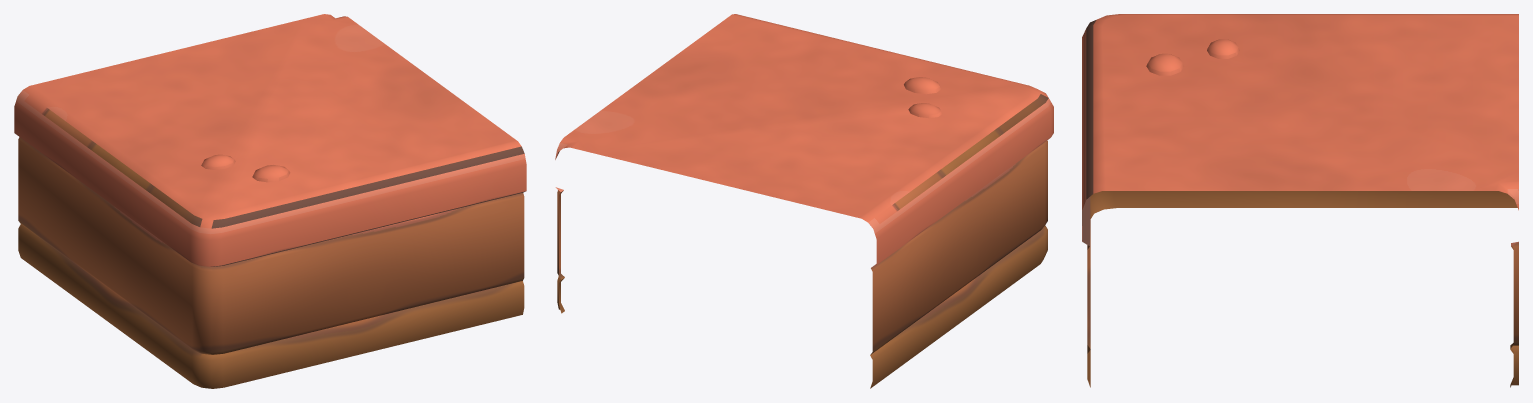
Rendered from wall_corner_low.glb.
The picture shows the model from 3 angles, left to right: view 1: azimuth 30°, elevation 25°; view 2: azimuth 150°, elevation 25°; view 3: azimuth 270°, elevation 25°; orthographic projection. The views are drawn at different scales.
Parts seen in each view (by area): view 1: wall_corner_low; view 2: wall_corner_low; view 3: wall_corner_low.
Part boxes in pixels (box(x1,y1,x2,y2)): wall_corner_low: box(14, 14, 526, 388); wall_corner_low: box(555, 14, 1053, 388); wall_corner_low: box(1082, 14, 1518, 387).
Bounding box in the file's own units: 1 × 0.5225 × 1.
Materials: 2 (2 with a texture image).
